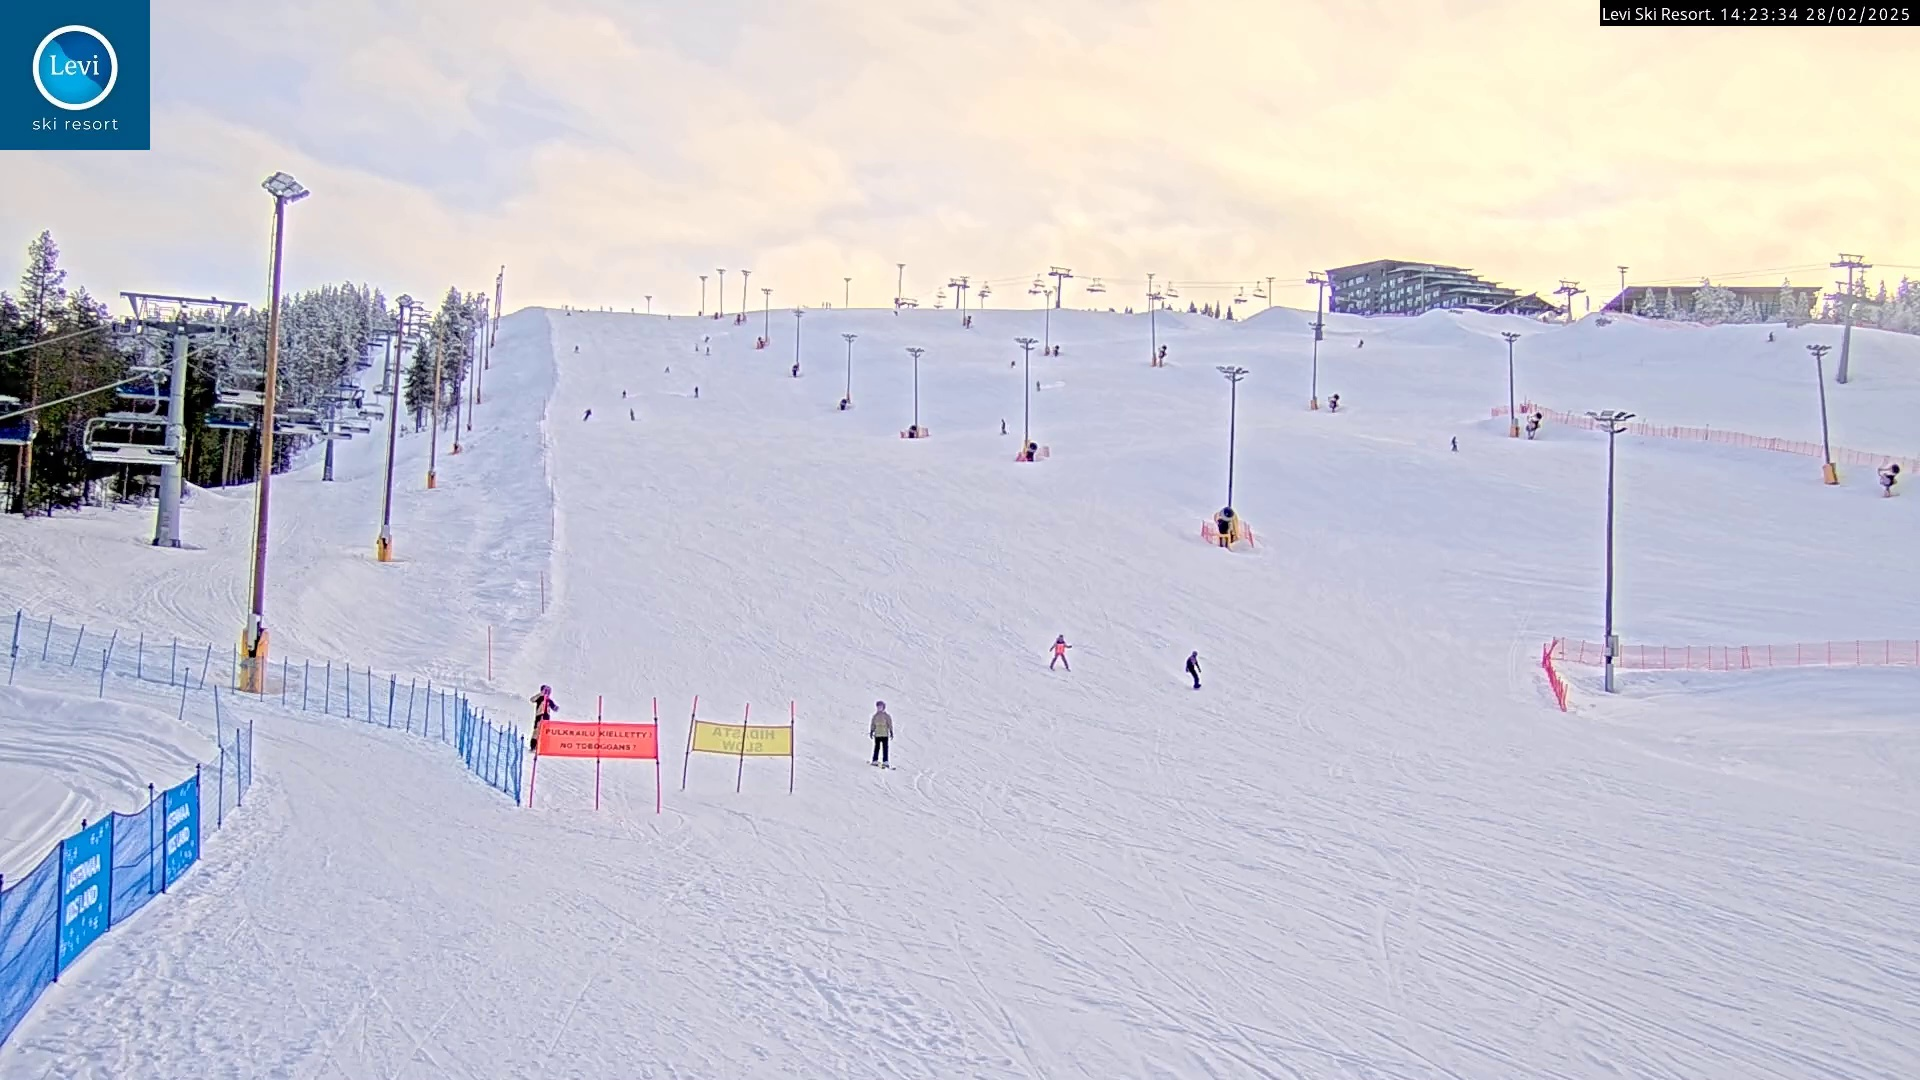skier: (869, 702, 893, 767), (1048, 632, 1072, 671)
snowboarder: (1184, 650, 1204, 688)
